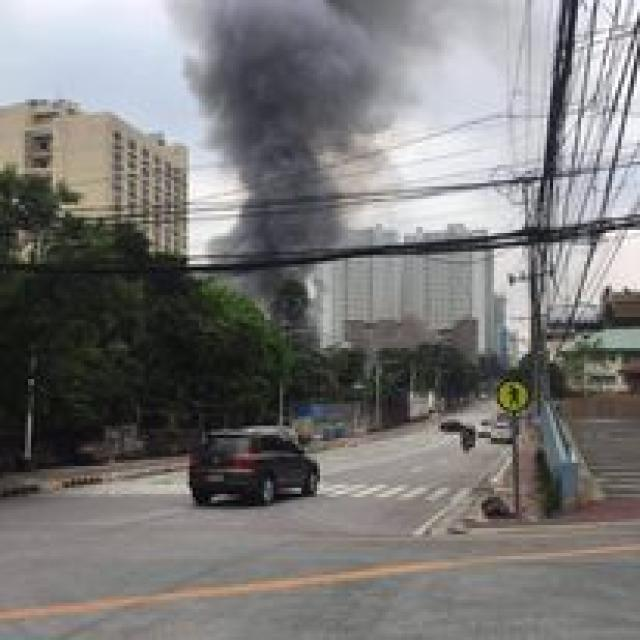Smoke: (188, 0, 371, 332)
